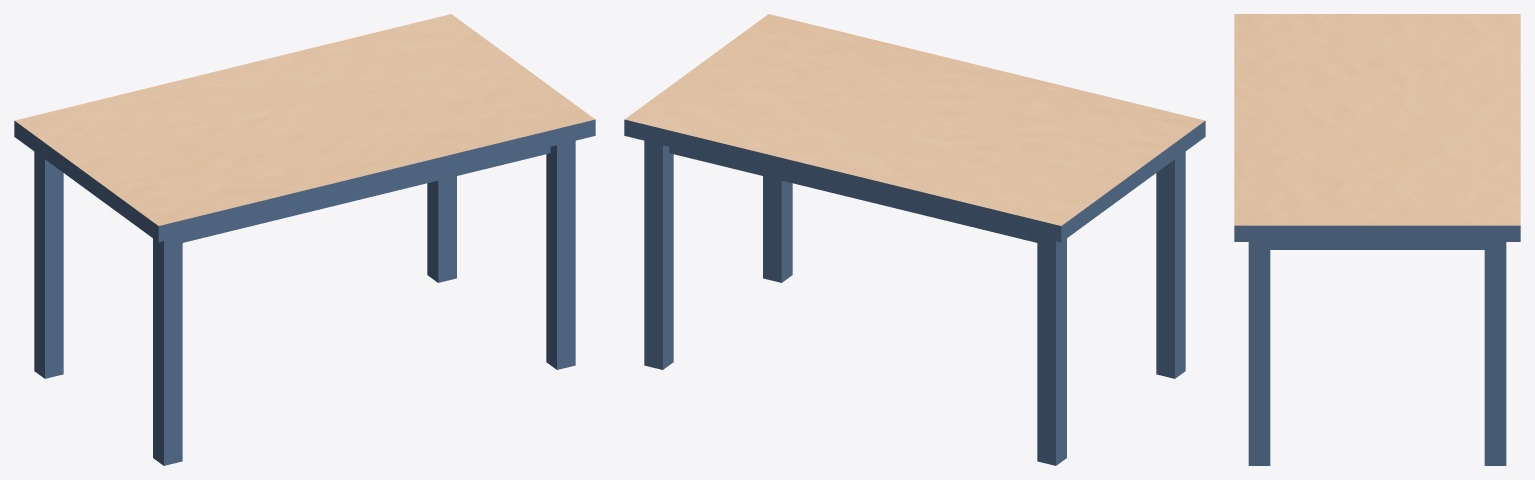
File: Table.fbx
3 renders of one model, left to right at view 1: azimuth 30°, elevation 25°; view 2: azimuth 150°, elevation 25°; view 3: azimuth 270°, elevation 25°, orthographic.
Visible parts, largest first — view 1: Table; view 2: Table; view 3: Table.
Part boxes in pixels (x1=…): Table: x1=14, y1=14, x2=595, y2=465; Table: x1=624, y1=14, x2=1205, y2=465; Table: x1=1234, y1=14, x2=1520, y2=465.
Size of the model in its own units: 1.4 by 0.76 by 0.8.
Materials: 1 (1 with a texture image).
